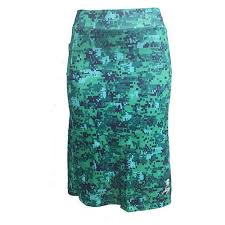C_skirt: (57, 7, 185, 214)
